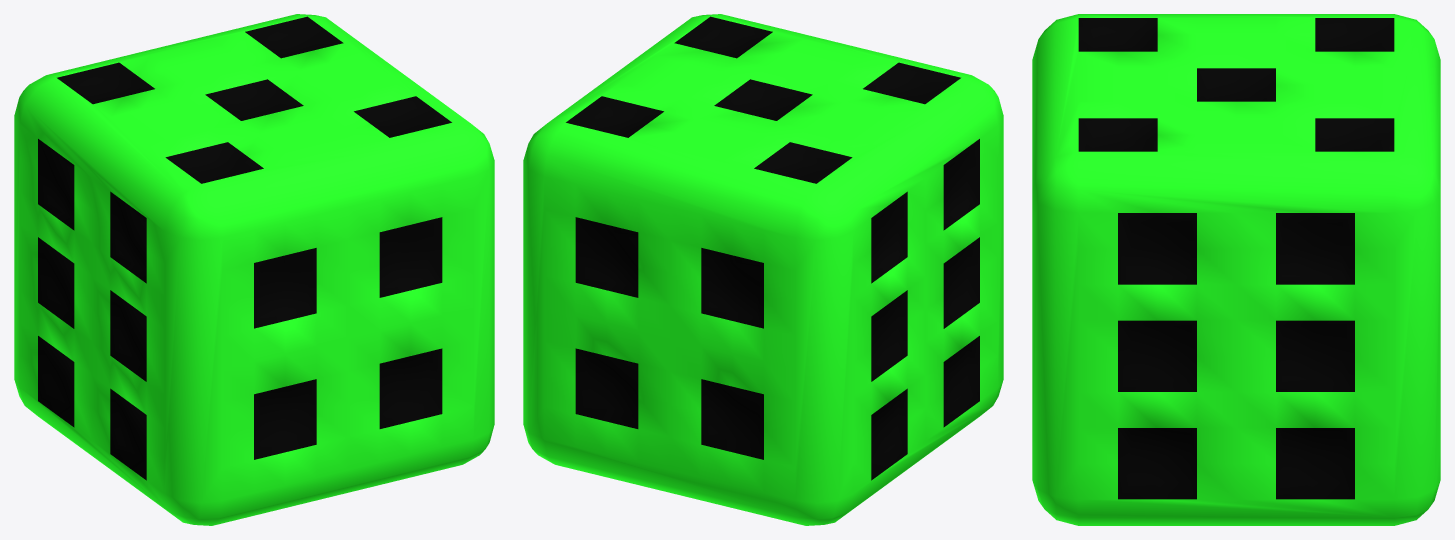
Rendered from dicemodel_weighted.glb.
3 views of the same model, side by side, from view 1: azimuth 30°, elevation 25°; view 2: azimuth 150°, elevation 25°; view 3: azimuth 270°, elevation 25° (orthographic). The views are drawn at different scales.
Visible parts, largest first — view 1: Cube.001; view 2: Cube.001; view 3: Cube.001.
Boxes of the visible parts, x1,y1,x2,y2 form: Cube.001: [14, 14, 494, 525]; Cube.001: [523, 14, 1003, 525]; Cube.001: [1032, 14, 1440, 525].
Bounding box in the file's own units: 1 × 1 × 1.
